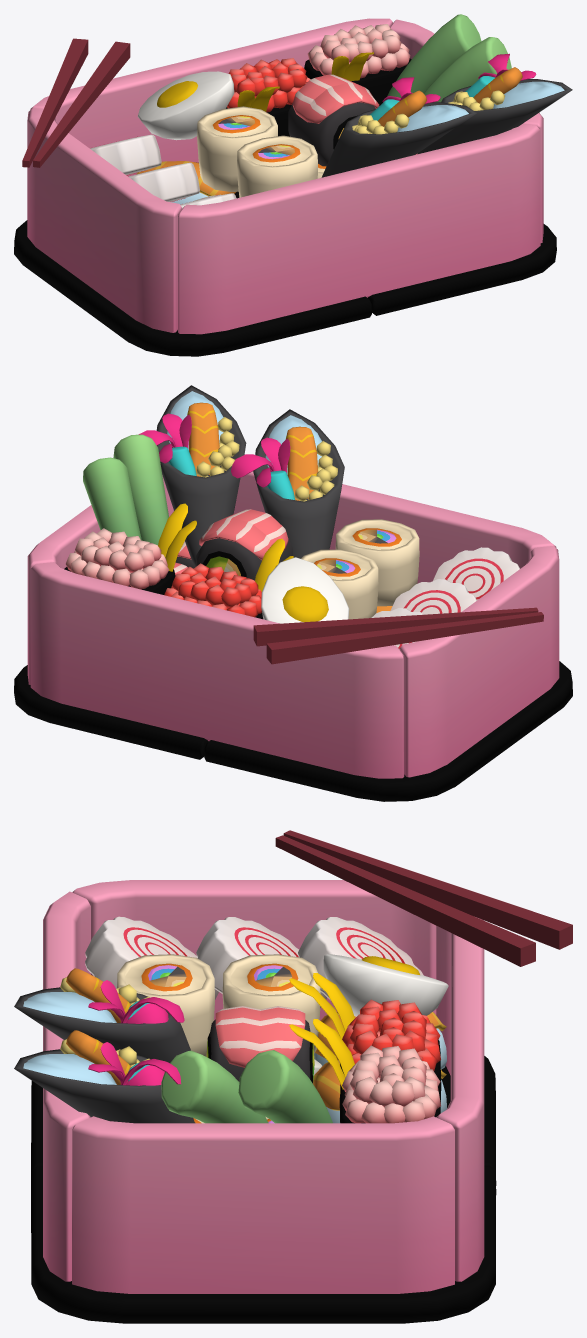
Rendered from lvl_16.fbx.
3 views of the same model, one above another, from view 1: azimuth 30°, elevation 25°; view 2: azimuth 150°, elevation 25°; view 3: azimuth 270°, elevation 25° (orthographic). The views are drawn at different scales.
Visible parts, largest first — view 1: Wood_6, Wood_1, Wood_5, Wood_4, Sushi_9, Sushi_11, Sushi_10, Sushi_8, Wood_7, Sushi_4, Sushi_5, Sushi_6 (+9 smaller); view 2: Wood_5, Wood_1, Sushi_9, Sushi_11, Wood_4, Wood_6, Sushi_10, Wood_7, Wood_2, Sushi_4, Sushi_6, Sushi_8 (+8 smaller); view 3: Wood_8, Wood_7, Wood_1, Wood_5, Sushi_11, Wood_6, Sushi_9, Sushi_10, Wood_3, Wood_2, Sushi_7, Sushi_8 (+11 smaller).
Boxes of the visible parts, <box> form: Wood_6: <box>178,124,540,334</box>; Wood_1: <box>27,108,182,332</box>; Wood_5: <box>30,18,392,176</box>; Wood_4: <box>14,220,371,356</box>; Sushi_9: <box>321,77,476,177</box>; Sushi_11: <box>417,53,572,154</box>; Sushi_10: <box>304,24,411,105</box>; Sushi_8: <box>288,74,379,166</box>; Wood_7: <box>234,191,556,315</box>; Sushi_4: <box>137,71,234,140</box>; Sushi_5: <box>197,106,277,191</box>; Sushi_6: <box>237,135,317,197</box>; Wood_5: <box>30,562,404,778</box>; Wood_1: <box>399,546,559,777</box>; Sushi_9: <box>231,409,344,558</box>; Sushi_11: <box>138,385,246,566</box>; Wood_4: <box>204,661,572,801</box>; Wood_6: <box>233,471,556,583</box>; Sushi_10: <box>64,503,196,594</box>; Wood_7: <box>14,665,208,759</box>; Wood_2: <box>266,612,543,664</box>; Sushi_4: <box>261,557,349,623</box>; Sushi_6: <box>335,519,419,606</box>; Sushi_8: <box>196,509,292,580</box>; Wood_8: <box>72,1116,454,1293</box>; Wood_7: <box>31,1166,496,1323</box>; Wood_1: <box>72,880,436,1020</box>; Wood_5: <box>436,917,484,1281</box>; Sushi_11: <box>14,1030,194,1123</box>; Wood_6: <box>43,891,90,1281</box>; Sushi_9: <box>14,968,190,1062</box>; Sushi_10: <box>289,1019,440,1123</box>; Wood_3: <box>275,835,535,966</box>; Wood_2: <box>283,830,572,949</box>; Sushi_7: <box>289,973,441,1103</box>; Sushi_8: <box>206,1006,314,1083</box>.
Size of the model in its own units: 17.53 by 7.02 by 13.82.
